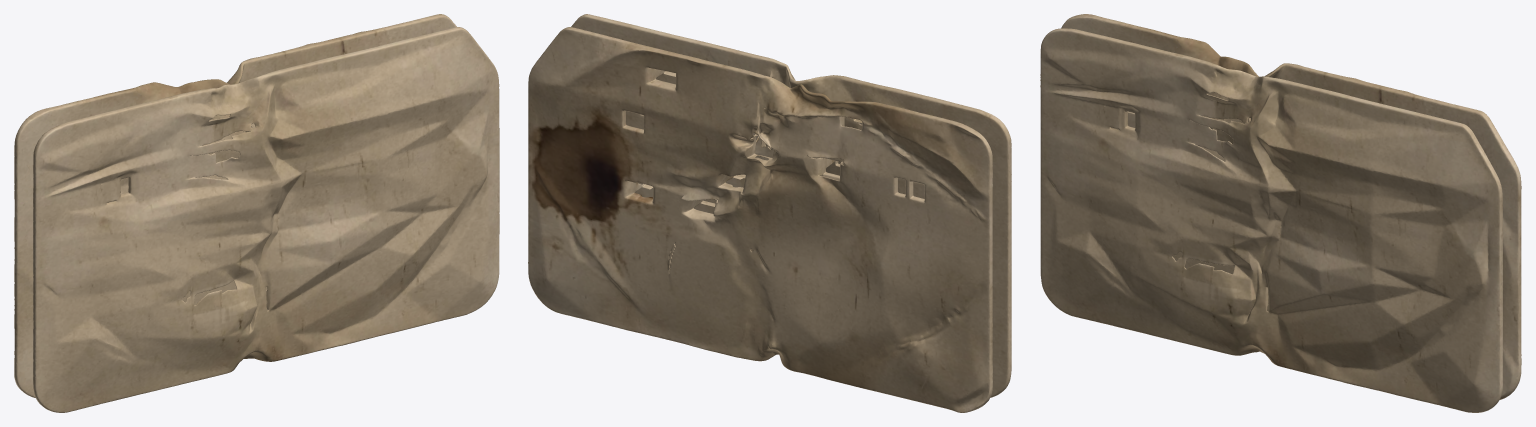
File: punch_card.glb
3 views of the same model, side by side, from view 1: azimuth 30°, elevation 25°; view 2: azimuth 150°, elevation 25°; view 3: azimuth 330°, elevation 25° (orthographic).
Visible parts, largest first — view 1: world; view 2: world; view 3: world.
Part boxes in pixels (box(x1,y1,x2,y2)): world: box(14, 14, 499, 412); world: box(528, 14, 1011, 412); world: box(1040, 14, 1521, 412).
Size of the model in its own units: 1 by 0.5961 by 0.1244.
1 material, 1 textured.
